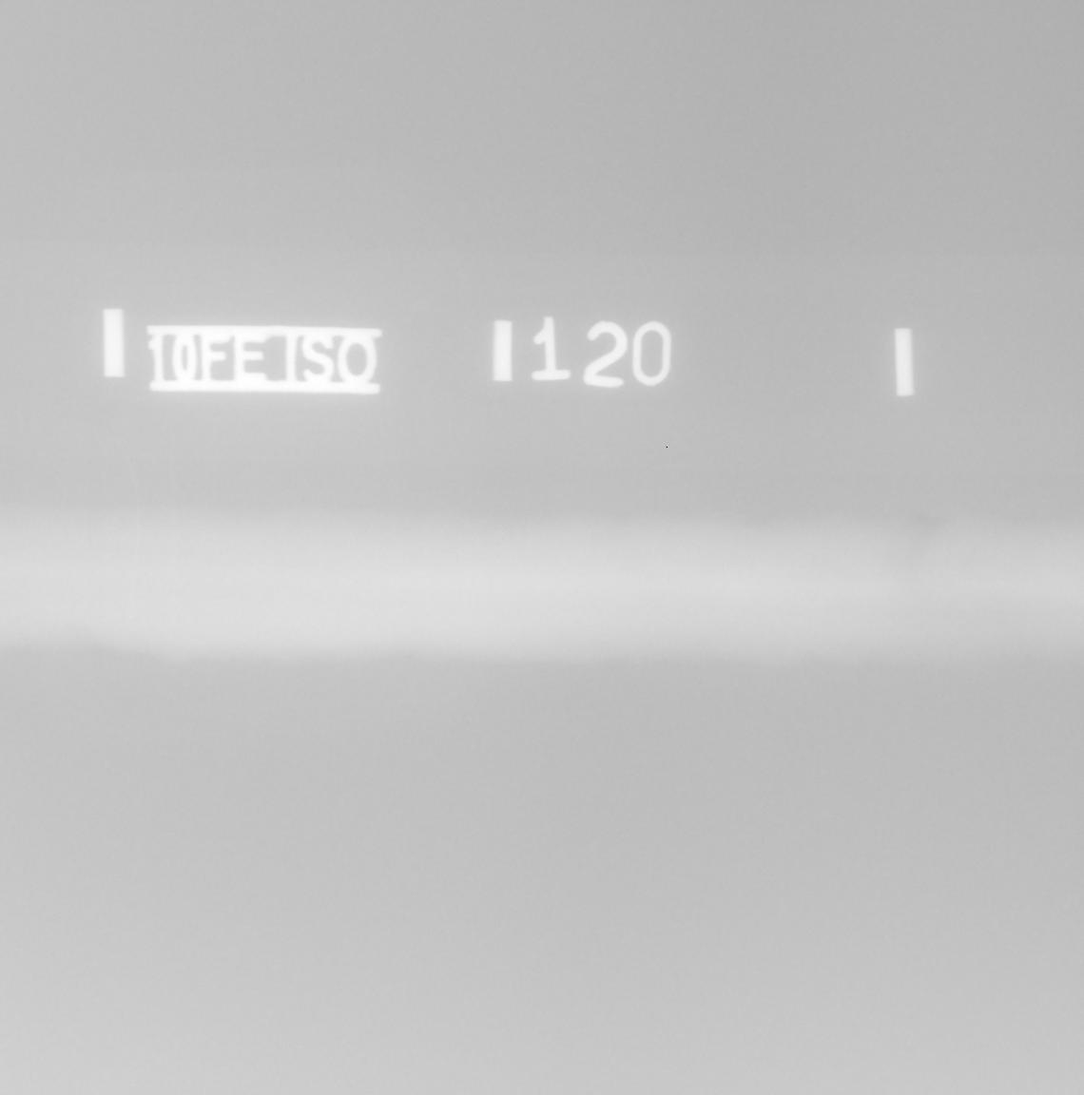Undercut: (917, 516, 938, 523)
